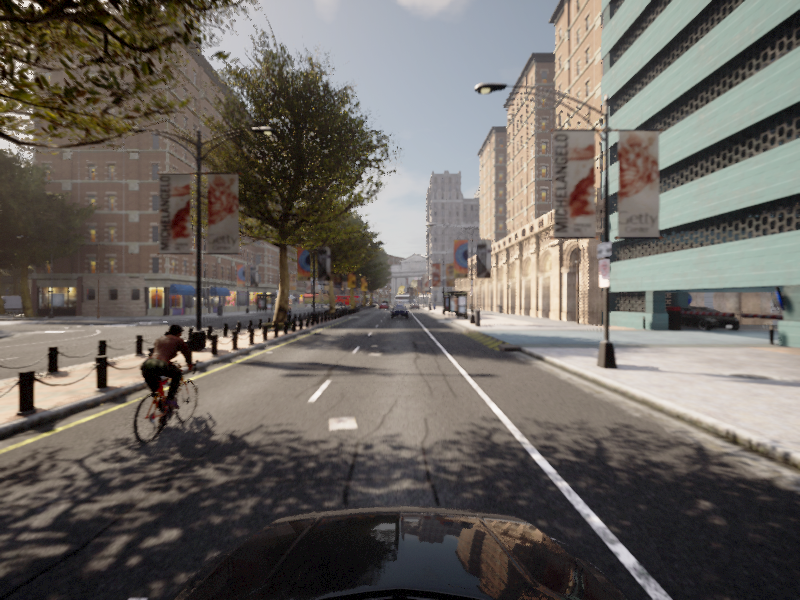vehicle: (111, 322, 214, 452), (391, 305, 408, 318), (282, 303, 294, 319)
